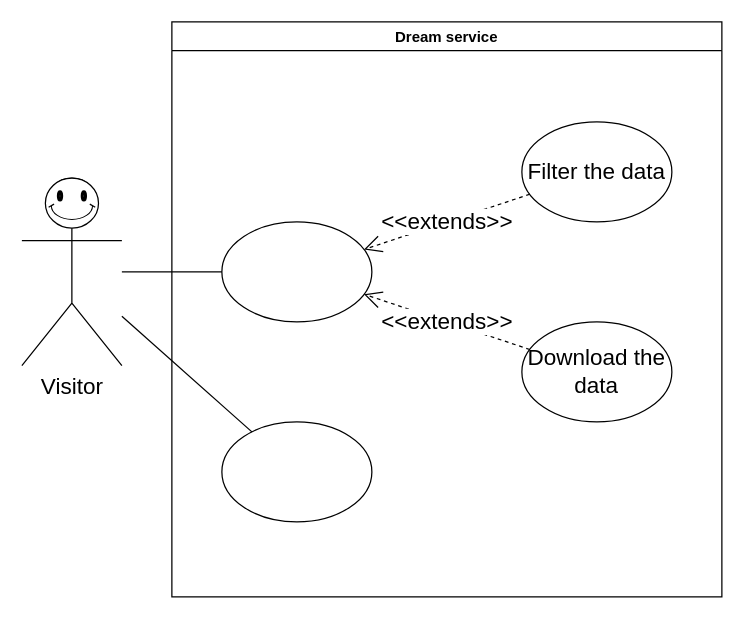
The diagram is 744 pixels wide and 619 high, and some of its shapes have lost their labels. Here are the shapes that lost their labels. From the top down, the centre of each, then its label:
At point (296, 271): "Access the data".
At point (296, 471): "Navigate the forum".
